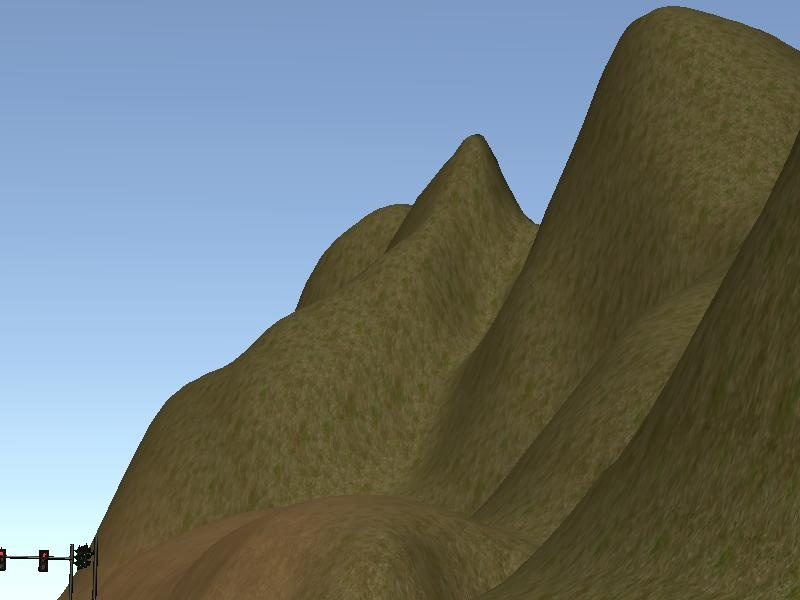traffic_light_red: (1, 546, 70, 574)
